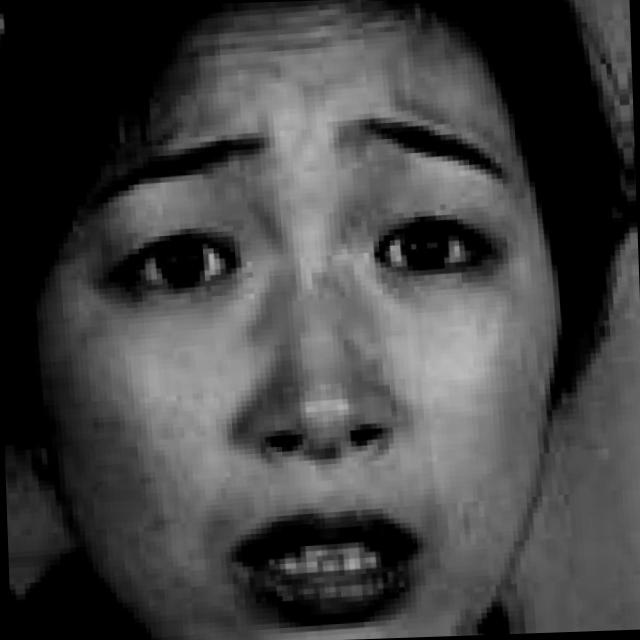fear: (43, 44, 585, 640)
